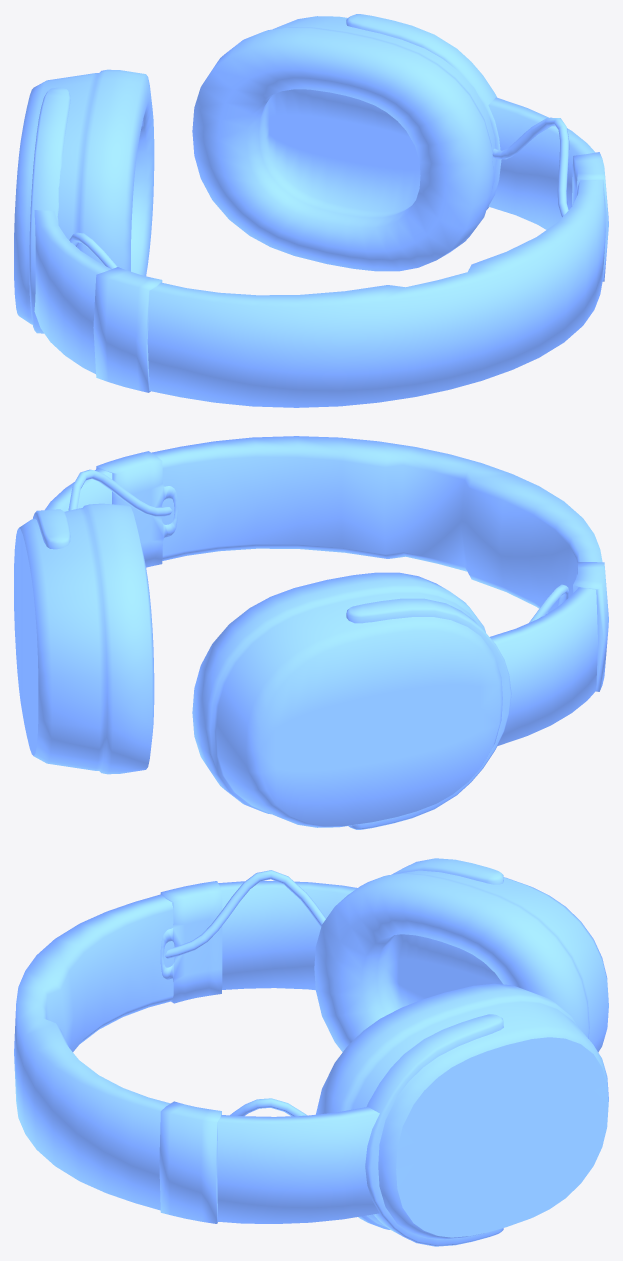
File: headphone.gltf
3 renders of one model, top to bottom at view 1: azimuth 30°, elevation 25°; view 2: azimuth 150°, elevation 25°; view 3: azimuth 270°, elevation 25°, orthographic.
Parts seen in each view (by area): view 1: Skullcandy_Crusher_M_Skullcandy_Crusher_0; view 2: Skullcandy_Crusher_M_Skullcandy_Crusher_0; view 3: Skullcandy_Crusher_M_Skullcandy_Crusher_0.
Boxes of the visible parts, x1,y1,x2,y2 form: Skullcandy_Crusher_M_Skullcandy_Crusher_0: [14, 14, 608, 407]; Skullcandy_Crusher_M_Skullcandy_Crusher_0: [14, 436, 608, 829]; Skullcandy_Crusher_M_Skullcandy_Crusher_0: [14, 858, 608, 1246].
Bounding box in the file's own units: 2.81 × 1.15 × 2.88.
